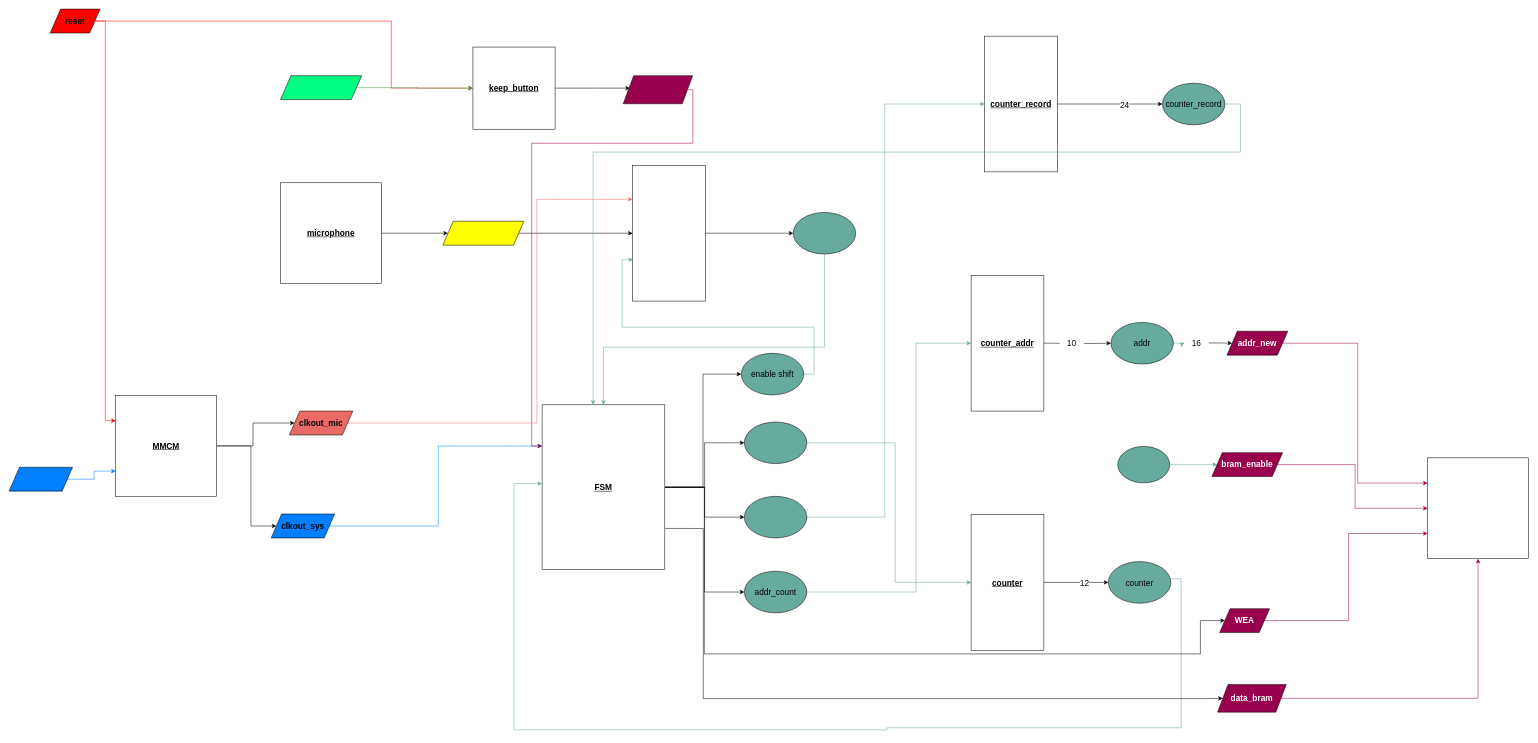
This 1538x743 diagram has some shape labels left out. Each missing label, with the centre of its shape:
BRAM: point (1478, 508)
clk: point (41, 479)
counter_enable: point (775, 442)
counter_record enable: point (775, 517)
data_shift: point (824, 233)
mic_data: point (483, 233)
new_button: point (658, 89)
record_button: point (321, 87)
shift register: point (668, 233)
VDD: point (1143, 464)
